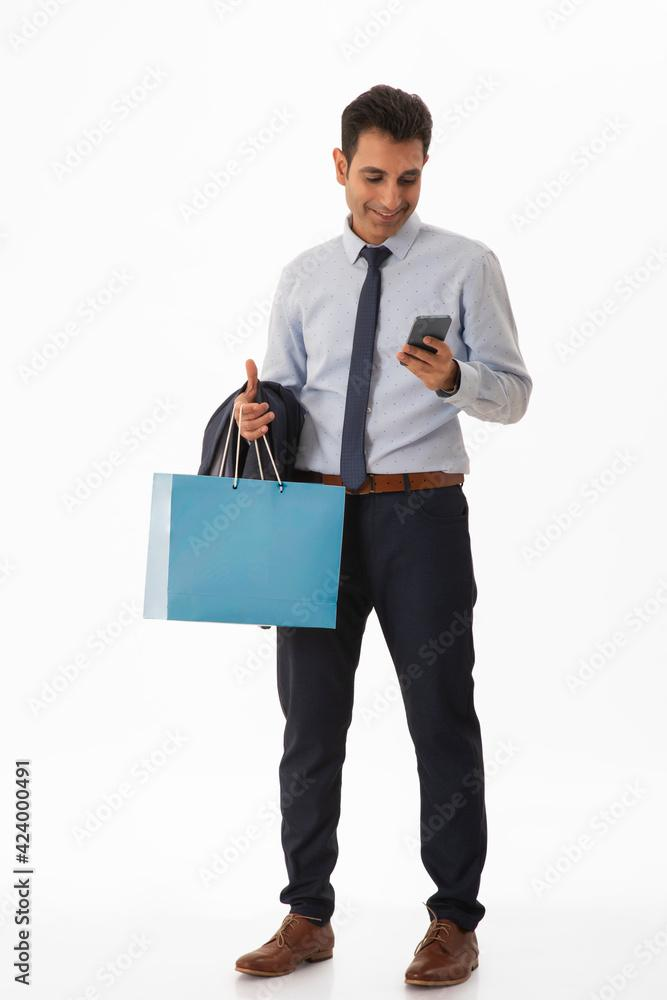Human: (174, 58, 553, 985)
